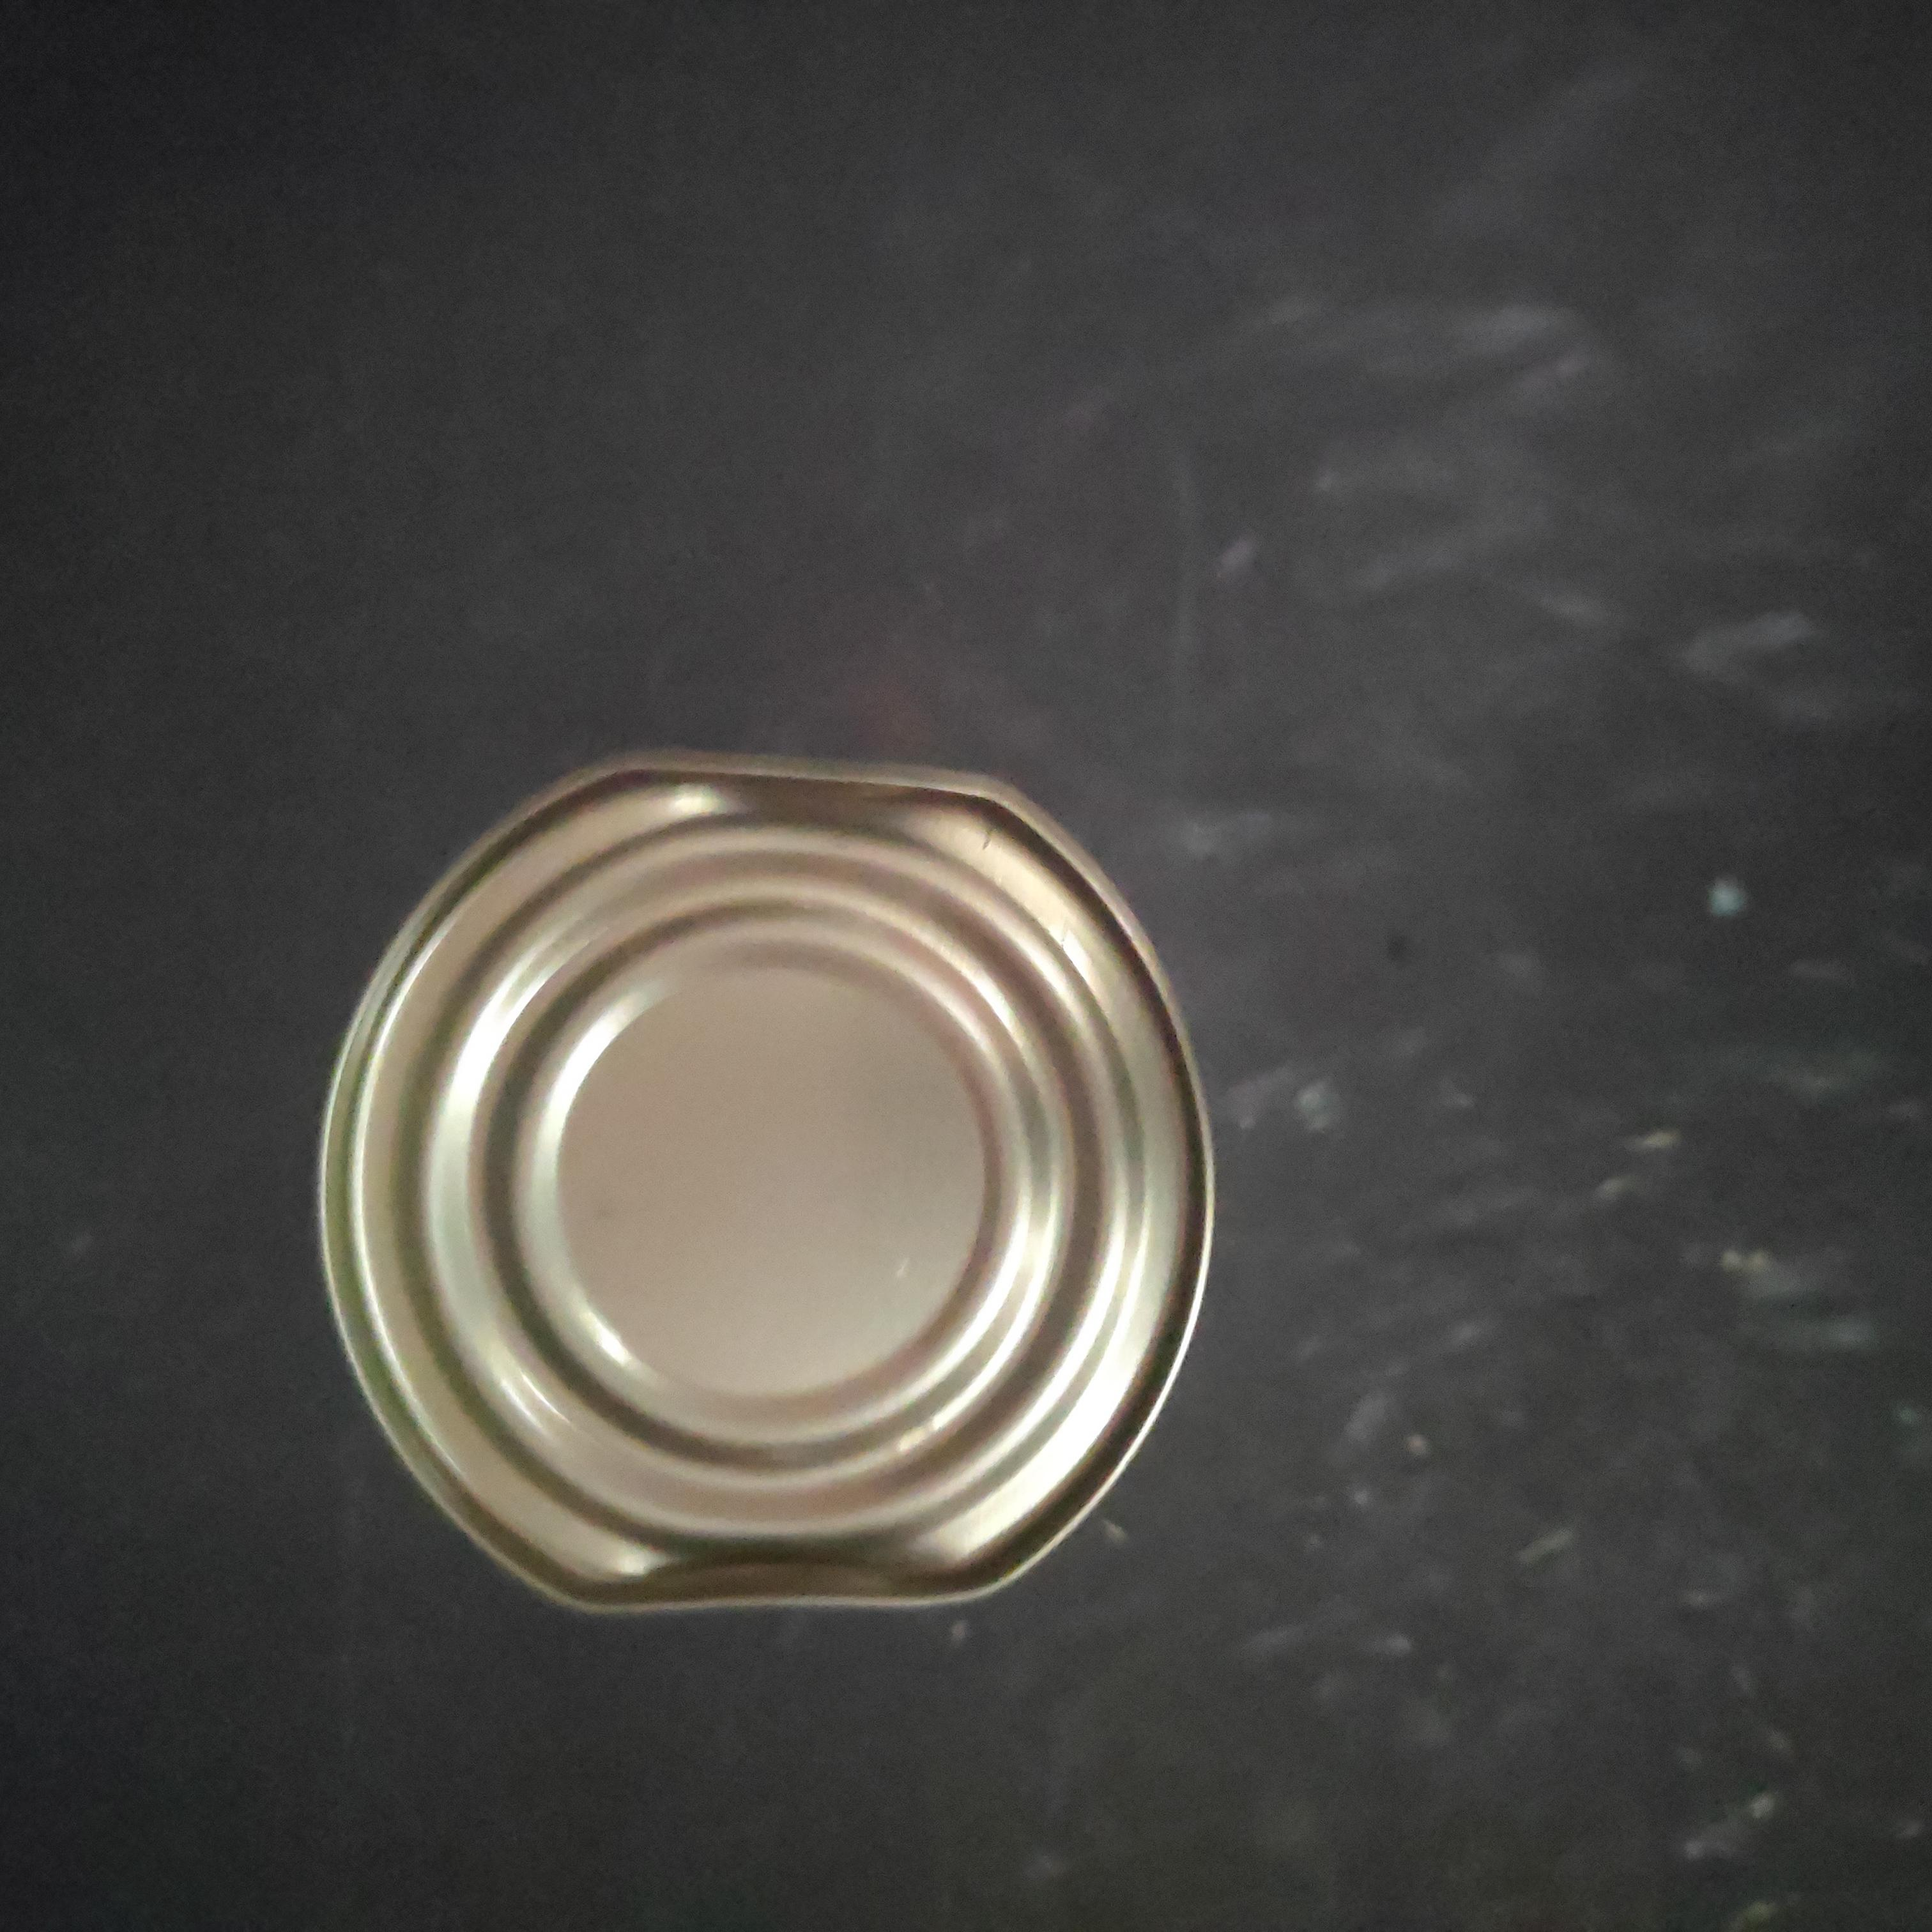Minor Defect: (701, 297, 1635, 1187)
